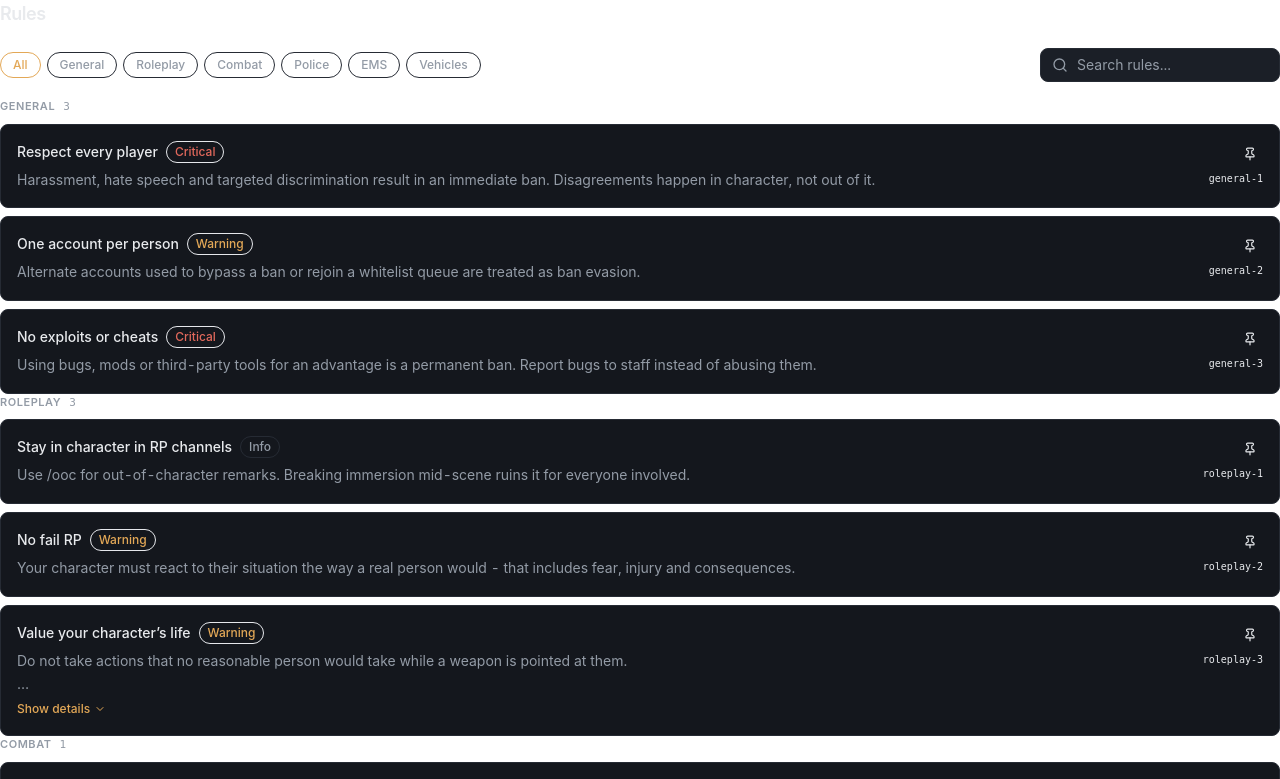
Test: RulesPage › filters by category and reports the pressed state
This screenshot has width=1280, height=779.
Click the button "Police" at [312, 65], box [281,52,342,78]
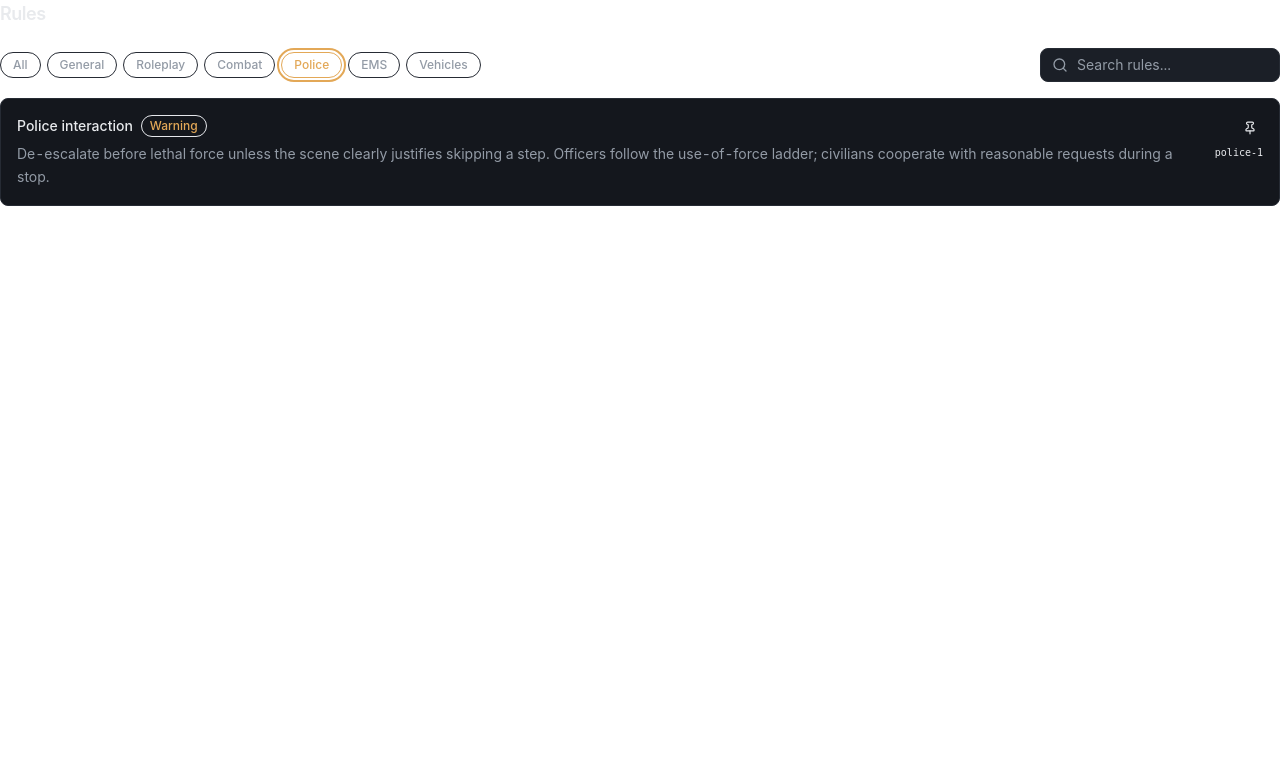
Check: the heading "Police interaction" is shown, box [17,116,133,136]
Check: the heading "Respect every player" is gone
